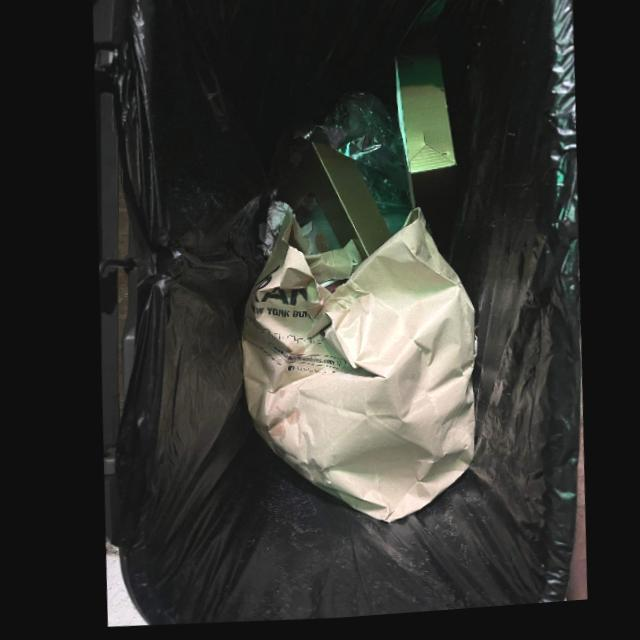paper: (235, 208, 471, 529), (308, 147, 388, 266), (393, 43, 454, 181)
